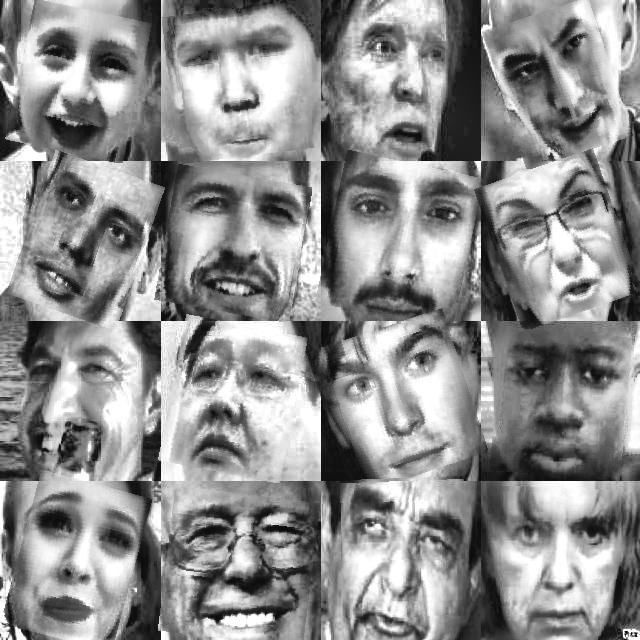angry: (323, 157, 477, 325), (484, 156, 632, 323), (166, 5, 311, 161), (492, 3, 624, 163), (341, 477, 468, 640), (492, 329, 629, 479), (494, 486, 620, 640)
happy: (162, 490, 316, 640), (160, 170, 307, 318), (12, 4, 146, 158), (16, 329, 134, 473)
neutral: (316, 317, 479, 486), (17, 158, 155, 324)
sad: (9, 475, 143, 640), (164, 319, 302, 478), (361, 8, 453, 156)
